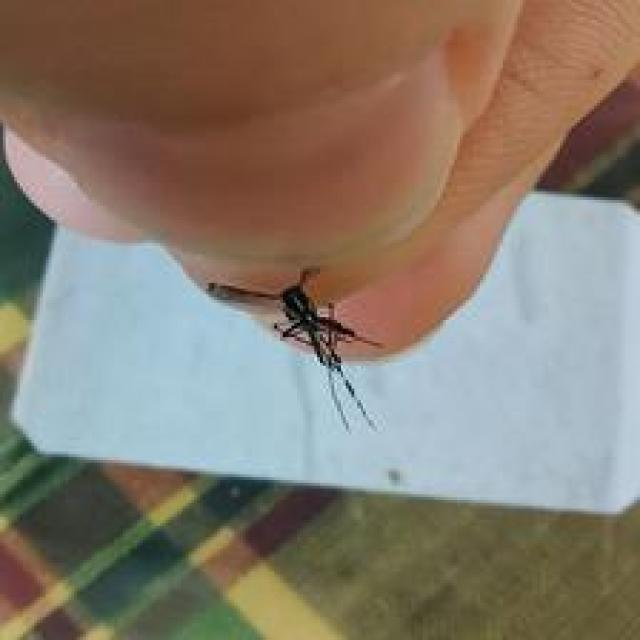Aedes albopictus: (203, 264, 386, 433)
